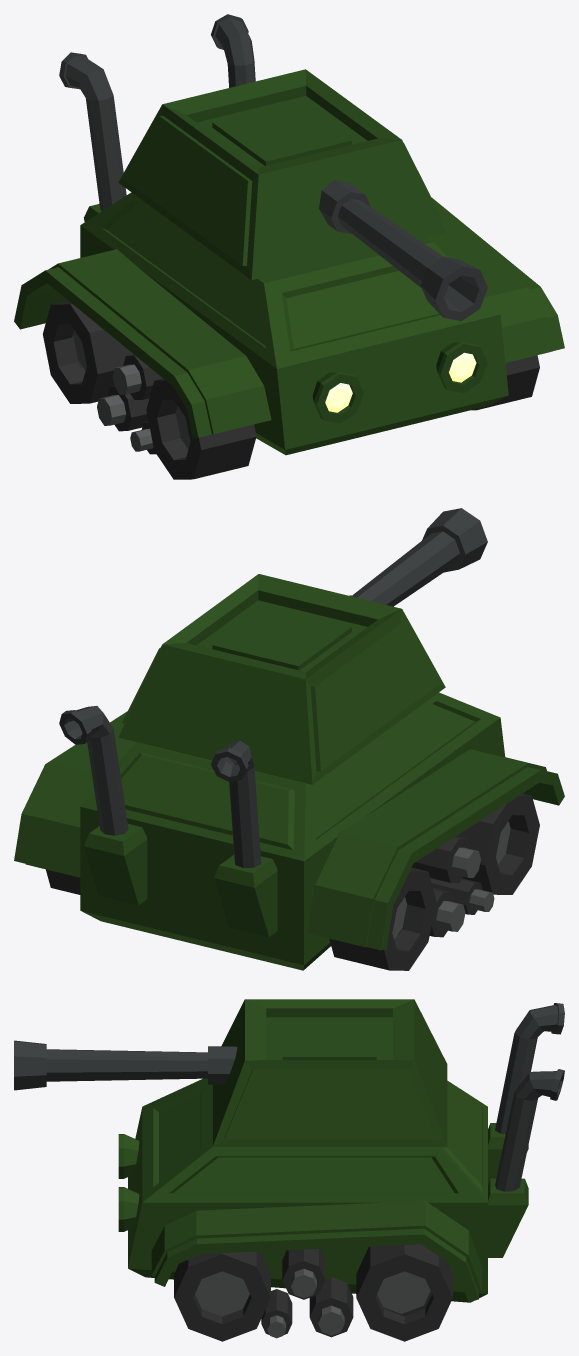
File: tanque.gltf
3 views of the same model, one above another, from view 1: azimuth 30°, elevation 25°; view 2: azimuth 150°, elevation 25°; view 3: azimuth 270°, elevation 25° (orthographic). The views are drawn at different scales.
Parts seen in each view (by area): view 1: body, head, mudflaps, cannon, front wheel, exhausts, front wheel_0.001, headlights, mid rear wheel, mid top wheel; view 2: head, body, mudflaps, exhausts, cannon, front wheel, front wheel_0.001, mid top wheel, mid front wheel, mid rear wheel; view 3: body, head, mudflaps, exhausts, cannon, front wheel, front wheel_0.001, mid rear wheel, mid top wheel, rear wheel, headlights, mid front wheel.
Boxes of the visible parts, <box> form: body: <box>80,192,508,455</box>; head: <box>118,69,445,279</box>; mudflaps: <box>14,198,564,438</box>; cannon: <box>319,179,487,321</box>; front wheel: <box>146,355,539,479</box>; exhausts: <box>59,14,255,221</box>; front wheel_0.001: <box>43,300,132,403</box>; headlights: <box>312,342,487,423</box>; mid rear wheel: <box>97,385,149,431</box>; mid top wheel: <box>112,354,162,399</box>; head: <box>118,574,445,784</box>; body: <box>80,692,505,970</box>; mudflaps: <box>14,711,564,950</box>; exhausts: <box>59,706,277,936</box>; cannon: <box>349,508,487,606</box>; front wheel: <box>456,793,539,894</box>; front wheel_0.001: <box>46,867,436,970</box>; mid top wheel: <box>411,836,480,882</box>; mid front wheel: <box>430,878,494,914</box>; mid rear wheel: <box>429,887,465,937</box>; body: <box>128,1078,487,1302</box>; head: <box>212,999,447,1146</box>; mudflaps: <box>151,1200,482,1302</box>; exhausts: <box>488,1003,564,1257</box>; cannon: <box>14,1040,237,1090</box>; front wheel: <box>174,1251,270,1341</box>; front wheel_0.001: <box>356,1244,452,1341</box>; mid rear wheel: <box>309,1277,353,1337</box>; mid top wheel: <box>282,1248,325,1299</box>; rear wheel: <box>377,1271,430,1313</box>; headlights: <box>118,1134,139,1231</box>; mid front wheel: <box>261,1289,292,1338</box>.
Bounding box in the file's own units: 3.28 × 2.32 × 4.85.
